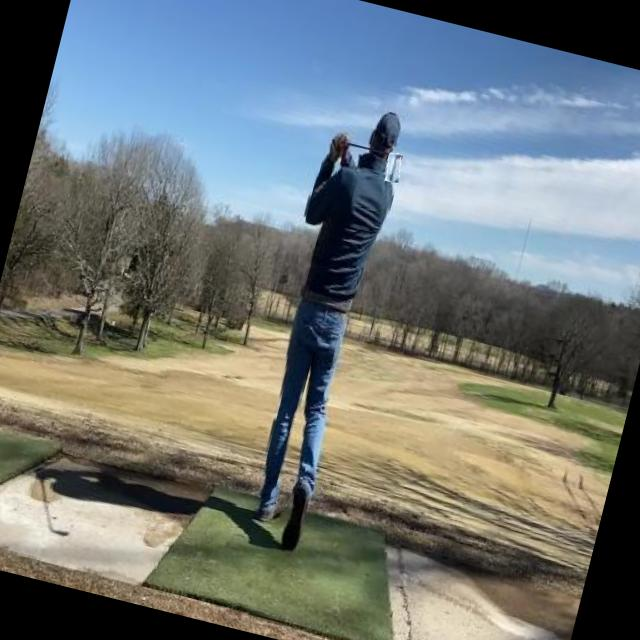club head: (382, 152, 403, 184)
